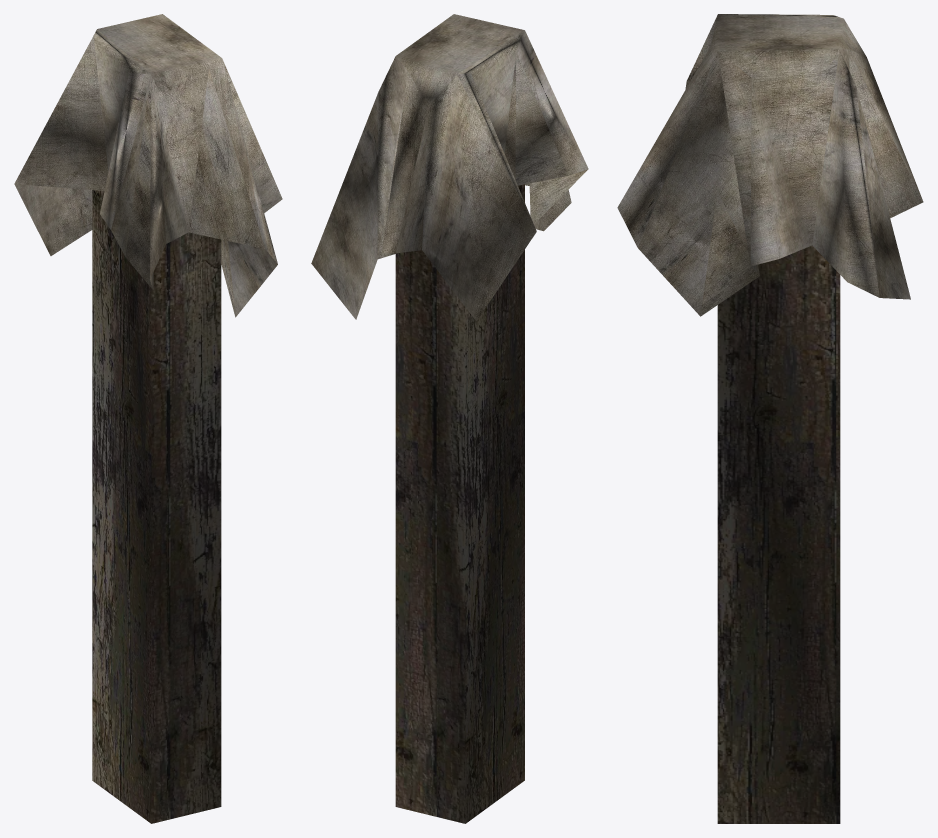
The model's file is KM_VOB_BEAM_CLOTH_01.glb.
3 views of the same model, side by side, from view 1: azimuth 30°, elevation 25°; view 2: azimuth 150°, elevation 25°; view 3: azimuth 270°, elevation 25° (orthographic). The views are drawn at different scales.
Parts seen in each view (by area): view 1: Mesh; view 2: Mesh; view 3: Mesh.
Boxes of the visible parts, box(x1,y1,x2,y2) form: Mesh: box(14, 14, 282, 823); Mesh: box(311, 14, 588, 823); Mesh: box(617, 14, 923, 823).
Bounding box in the file's own units: 0.4565 × 1.47 × 0.5283.
2 materials, 2 textured.
